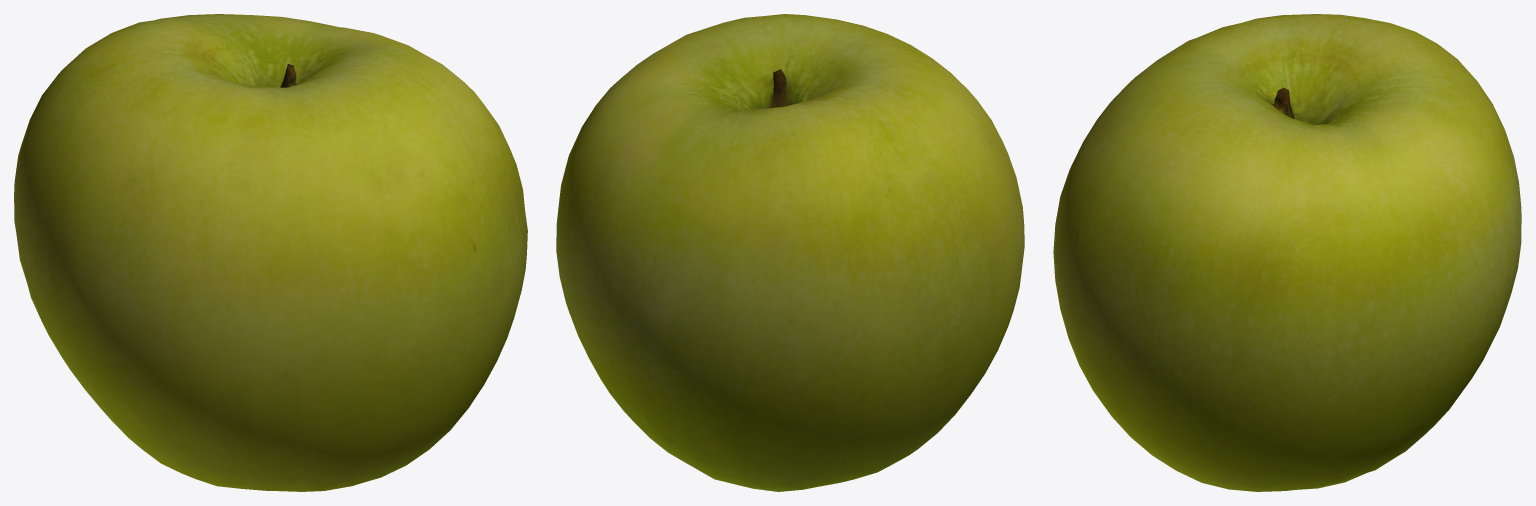
Rendered from SM_Consumable_Apple_01.fbx.
3 views of the same model, side by side, from view 1: azimuth 30°, elevation 25°; view 2: azimuth 150°, elevation 25°; view 3: azimuth 270°, elevation 25° (orthographic). The views are drawn at different scales.
Parts seen in each view (by area): view 1: SM_Consumable_Apple_01; view 2: SM_Consumable_Apple_01; view 3: SM_Consumable_Apple_01.
Boxes of the visible parts, left/top/right/bottom form: SM_Consumable_Apple_01: left=14, top=14, right=527, bottom=491; SM_Consumable_Apple_01: left=556, top=14, right=1024, bottom=491; SM_Consumable_Apple_01: left=1053, top=14, right=1521, bottom=491.
Bounding box in the file's own units: 0.0777 × 0.0691 × 0.0769.
